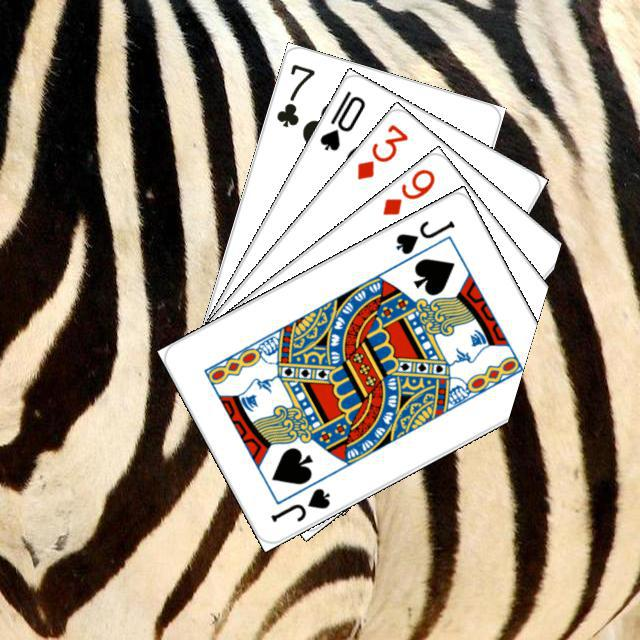10s: (314, 85, 367, 153)
3d: (351, 119, 410, 182)
7c: (271, 59, 317, 129)
9d: (377, 164, 437, 218)
Js: (390, 215, 457, 257), (265, 483, 332, 524)
